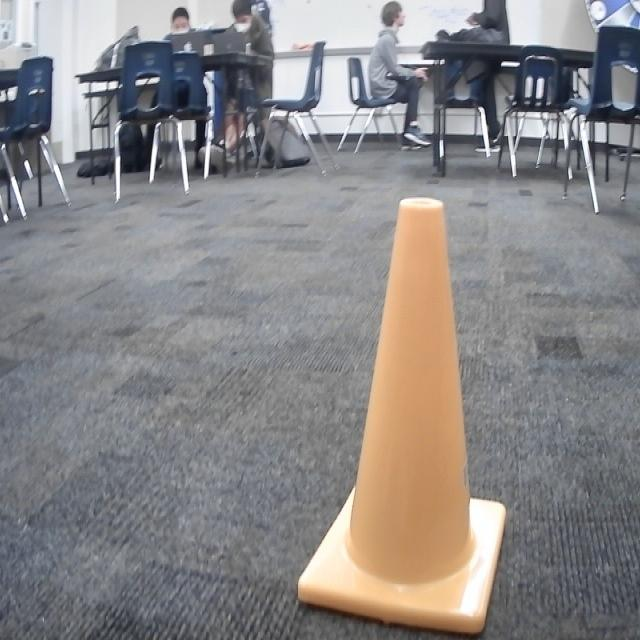cone: (296, 195, 507, 638)
